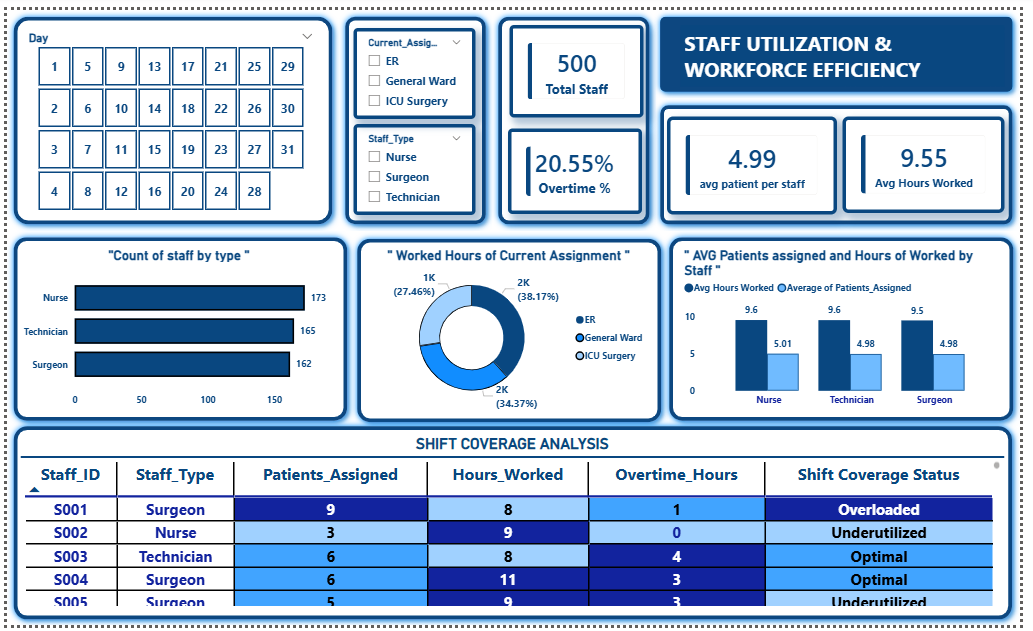

The dashboard page shown, as its layout file describes it:
{"tool":"powerbi","page":{"name":"Staff","canvas":[1350,820],"ordinal":3},"visuals":[{"type":"shape","box":[862.5,117.9,487.5,176.8],"z":0},{"type":"shape","box":[646.4,0,219.6,294.6],"z":1000},{"type":"shape","box":[441.1,0,205.4,294.6],"z":2000},{"type":"shape","box":[873.2,294.6,476.8,262.5],"z":3000},{"type":"shape","box":[457.1,296.4,423.2,262.5],"z":4000},{"type":"shape","box":[0,294.6,462.5,262.5],"z":5000},{"type":"shape","box":[0,545.3,1349.1,275.5],"z":6000},{"type":"shape","box":[0,0,442.9,294.6],"z":7000},{"type":"cardVisual","fields":{"Data":["Staff_data.Total Staff"]},"box":[669.6,19.6,178.6,123.2],"z":8000},{"type":"cardVisual","fields":{"Data":["Staff_data.avg patient per staff"]},"box":[880.4,142.9,226.8,130.4],"z":9000},{"type":"cardVisual","fields":{"Data":["Staff_data.Avg Hours Worked"]},"box":[1114.3,142.9,216.1,128.6],"z":10000},{"type":"cardVisual","fields":{"Data":["Staff_data.Overtime Worked"]},"box":[667.9,158.9,178.6,114.3],"z":11000},{"type":"barChart","title":"\"Count of staff by type \"","fields":{"Category":["Staff_data.Staff_Type"],"Y":["CountNonNull(Staff_data.Staff_ID)"]},"box":[16.1,316.1,426.8,221.4],"z":12000},{"type":"clusteredColumnChart","title":"\" AVG Patients assigned and Hours of Worked by Staff \" ","fields":{"Category":["Staff_data.Staff_Type"],"Y":["Staff_data.Avg Hours Worked","Avg(Staff_data.Patients_Assigned)"]},"box":[898.2,316.1,432.1,221.4],"z":13000},{"type":"donutChart","title":"\" Worked Hours of Current Assignment \"","fields":{"Category":["Staff_data.Current_Assignment"],"Y":["Sum(Staff_data.Hours_Worked)"]},"box":[476.8,316.1,385.7,221.4],"z":14000},{"type":"tableEx","title":"SHIFT COVERAGE ANALYSIS","fields":{"Values":["Staff_data.Staff_ID","Staff_data.Staff_Type","Staff_data.Patients_Assigned","Staff_data.Hours_Worked","Staff_data.Overtime_Hours","Staff_data.Shift Coverage Status"]},"box":[18.9,566,1311.3,234],"z":15000},{"type":"slicer","fields":{"Values":["Staff_data.Staff_Type"]},"box":[462.5,151.8,162.5,121.4],"z":16000},{"type":"slicer","fields":{"Values":["Staff_data.Current_Assignment"]},"box":[462.5,23.2,162.5,121.4],"z":17000},{"type":"slicer","fields":{"Values":["Staff_data.Shift_Date.Variation.Date Hierarchy.Day"]},"box":[16.1,21.4,403.6,251.8],"z":18000},{"type":"shape","box":[862.5,0,487.5,117.9],"z":18001},{"type":"textbox","box":[898.2,19.6,432.1,82.1],"z":18002}]}

Visuals, with their boxes in screenshot pixels (x1, y1, x2, y2), scaled from the page's 1350x820 canvas onto the 1033x631 screenshot:
shape: select_region(660, 91, 1032, 227)
shape: select_region(495, 0, 663, 227)
shape: select_region(338, 0, 495, 227)
shape: select_region(668, 227, 1032, 429)
shape: select_region(350, 228, 674, 430)
shape: select_region(0, 227, 354, 429)
shape: select_region(0, 420, 1032, 630)
shape: select_region(0, 0, 339, 227)
cardVisual - Staff_data.Total Staff: select_region(512, 15, 649, 110)
cardVisual - Staff_data.avg patient per staff: select_region(674, 110, 847, 210)
cardVisual - Staff_data.Avg Hours Worked: select_region(853, 110, 1018, 209)
cardVisual - Staff_data.Overtime Worked: select_region(511, 122, 648, 210)
""Count of staff by type "" barChart: select_region(12, 243, 339, 414)
"" AVG Patients assigned and Hours of Worked by Staff " " clusteredColumnChart: select_region(687, 243, 1018, 414)
"" Worked Hours of Current Assignment "" donutChart: select_region(365, 243, 660, 414)
"SHIFT COVERAGE ANALYSIS" tableEx: select_region(14, 436, 1018, 616)
slicer - Staff_data.Staff_Type: select_region(354, 117, 478, 210)
slicer - Staff_data.Current_Assignment: select_region(354, 18, 478, 111)
slicer - Staff_data.Shift_Date.Variation.Date Hierarchy.Day: select_region(12, 16, 321, 210)
shape: select_region(660, 0, 1032, 91)
textbox: select_region(687, 15, 1018, 78)
